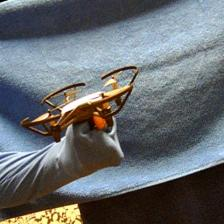drone: (19, 64, 140, 139)
